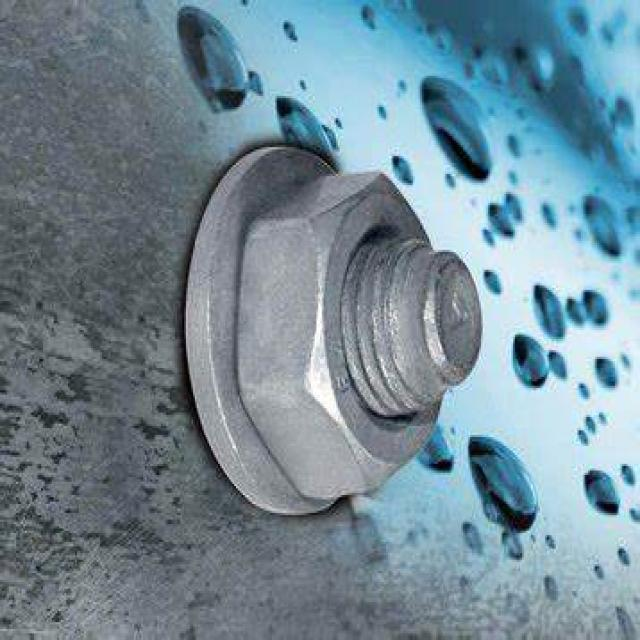bolt nut: (234, 165, 454, 502)
